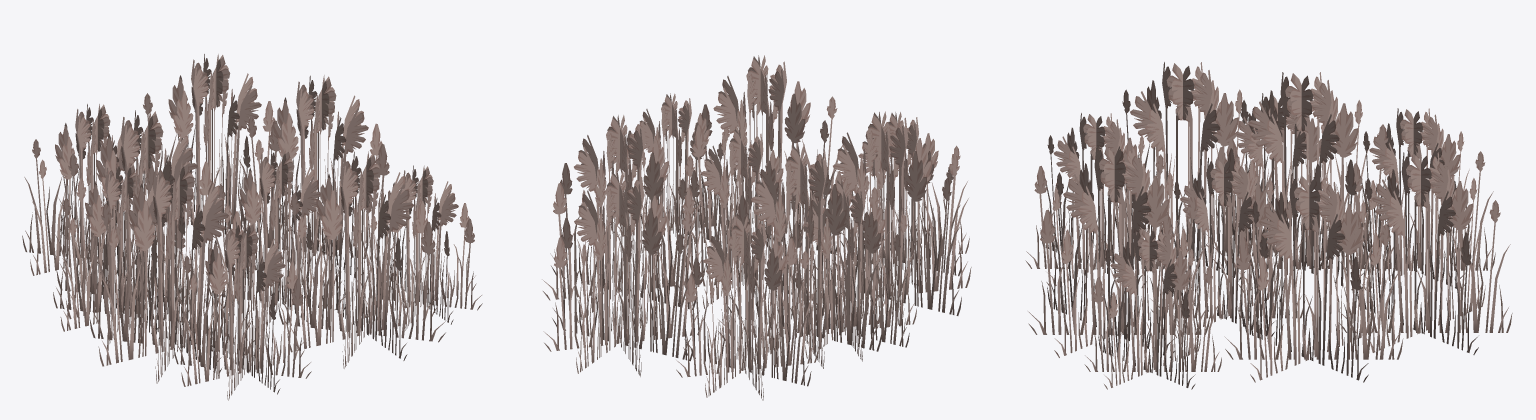
The model's file is SM_Sea_Reeds.fbx.
The picture shows the model from 3 angles, left to right: view 1: azimuth 30°, elevation 25°; view 2: azimuth 150°, elevation 25°; view 3: azimuth 270°, elevation 25°; orthographic projection. The views are drawn at different scales.
Visible parts, largest first — view 1: SM_Sea_Reeds; view 2: SM_Sea_Reeds; view 3: SM_Sea_Reeds.
Part boxes in pixels (x1,y1,x2,y2): SM_Sea_Reeds: (22, 54, 482, 400); SM_Sea_Reeds: (542, 55, 971, 400); SM_Sea_Reeds: (1025, 62, 1512, 389).
Size of the model in its own units: 114 by 54.15 by 126.
